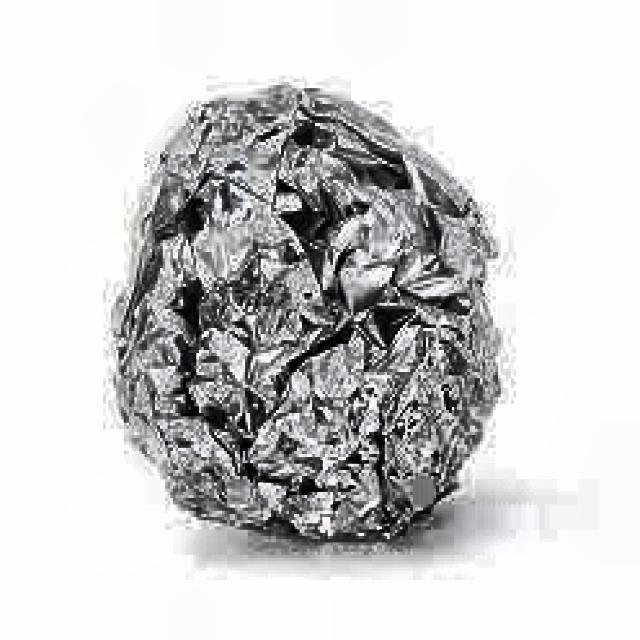Foil: (92, 75, 522, 568)
